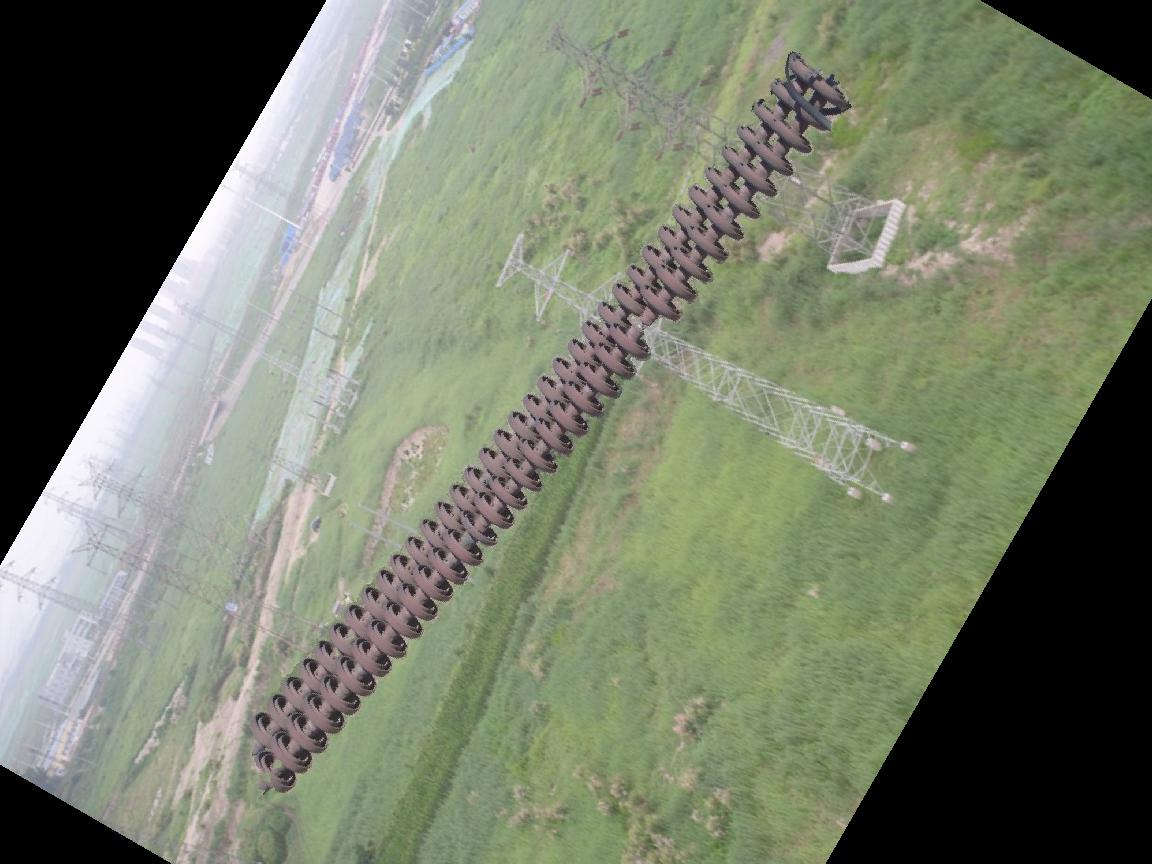insulator: (242, 45, 856, 798)
insulator_stringdrop: (607, 280, 682, 364)
